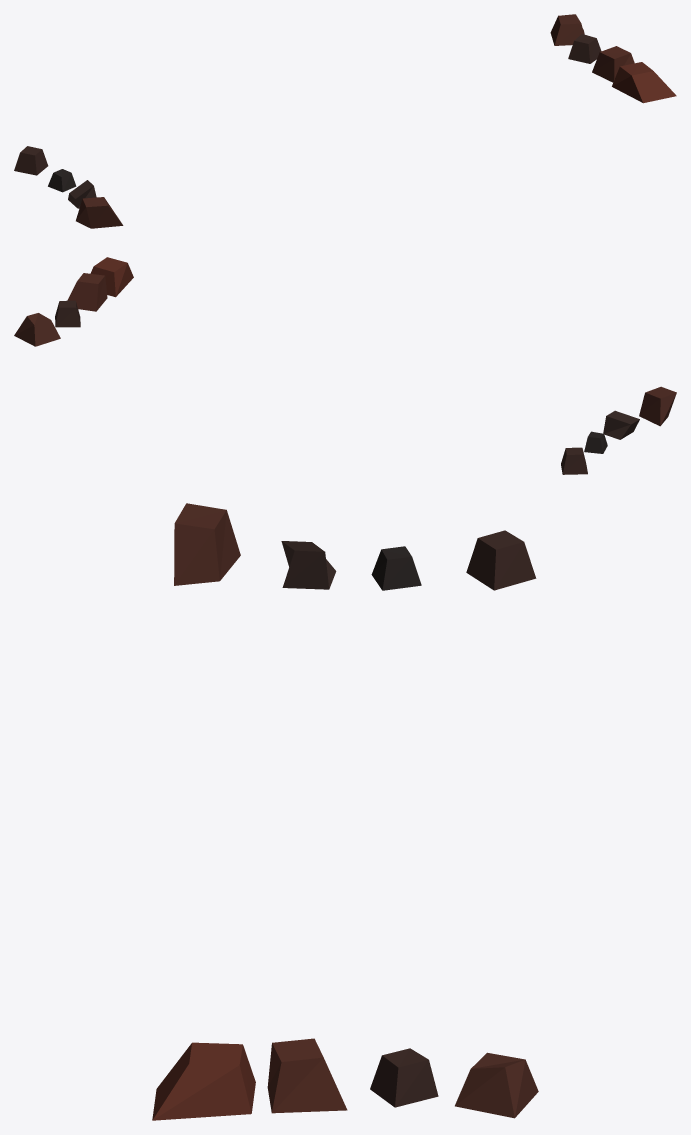
Rendered from lava_chute_3x0p5x8_detail1.glb.
3 renders of one model, top to bottom at view 1: azimuth 30°, elevation 25°; view 2: azimuth 150°, elevation 25°; view 3: azimuth 270°, elevation 25°, orthographic. The views are drawn at different scales.
Parts seen in each view (by area): view 1: lava_chute_3x0p5x8_detail1; view 2: lava_chute_3x0p5x8_detail1; view 3: lava_chute_3x0p5x8_detail1.
Part boxes in pixels (x1,y1,x2,y2): lava_chute_3x0p5x8_detail1: [14, 14, 676, 228]; lava_chute_3x0p5x8_detail1: [14, 257, 676, 474]; lava_chute_3x0p5x8_detail1: [152, 503, 538, 1120].
Size of the model in its own units: 10.55 by 0.4269 by 3.03.
